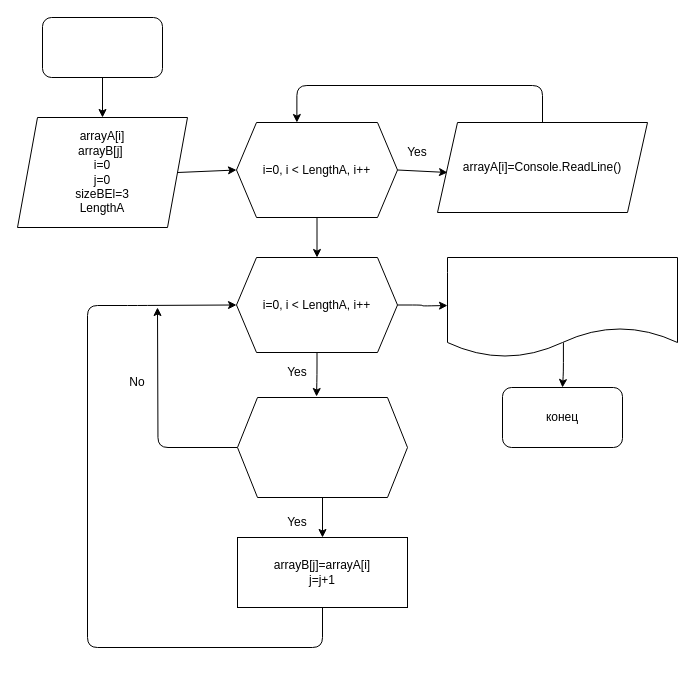
The diagram is 695 pixels wide and 673 high, and some of its shapes have lost their labels. The box of each missing label's shape, as (x1, y1, x2, y2) in pixels:
arrayA[i].Length <= sizeBEl: (236, 396, 408, 498)
PrintArray(arrayA) PrintArray(arrayB): (446, 256, 678, 358)
начало: (42, 16, 162, 78)
